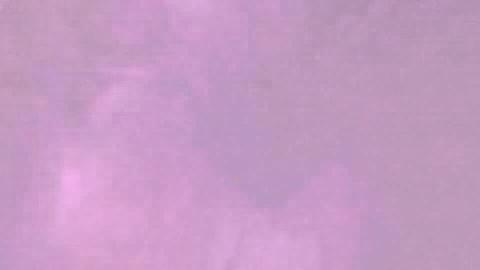tomato: (229, 117, 477, 268), (19, 150, 184, 268)
